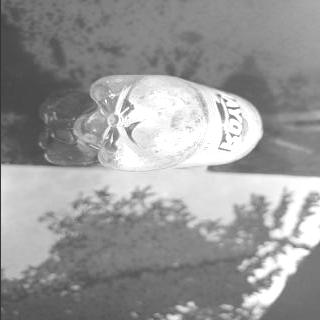bottle: (75, 74, 268, 170)
